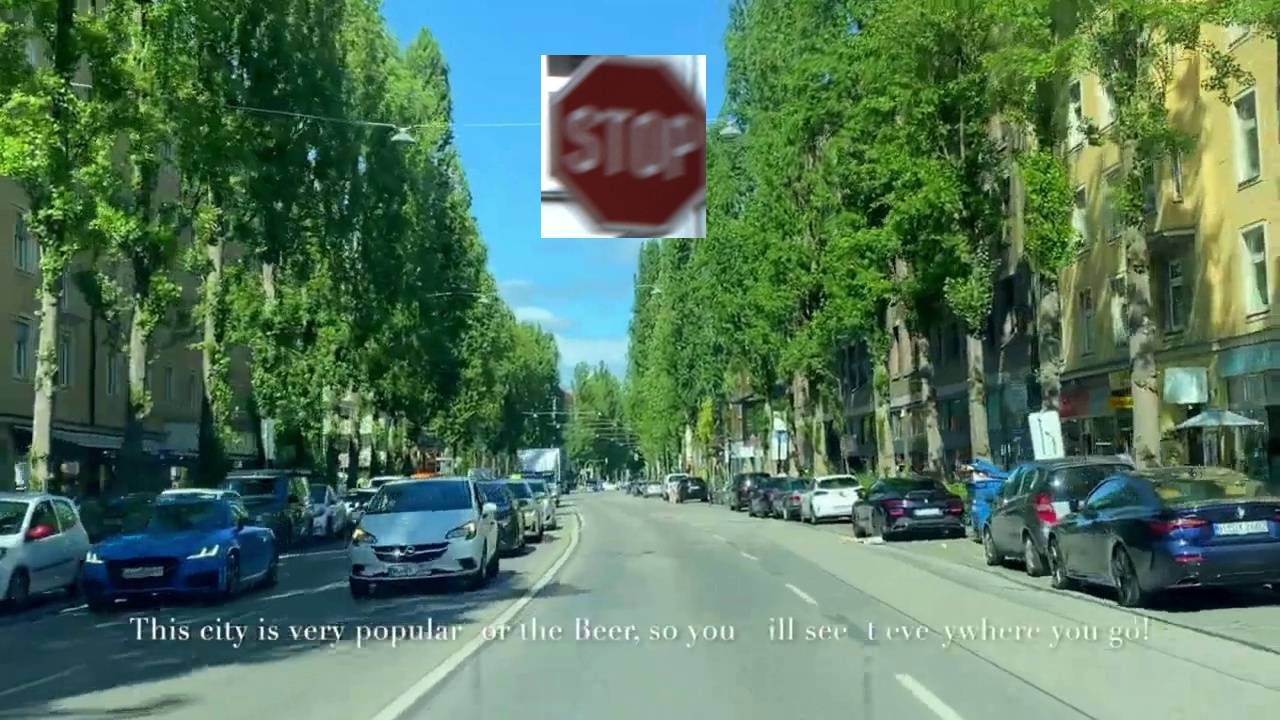Stop: (541, 55, 706, 238)
